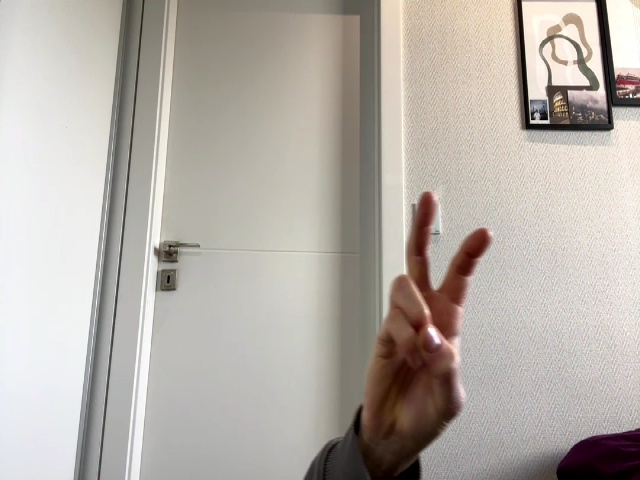H: (365, 192, 494, 439)
